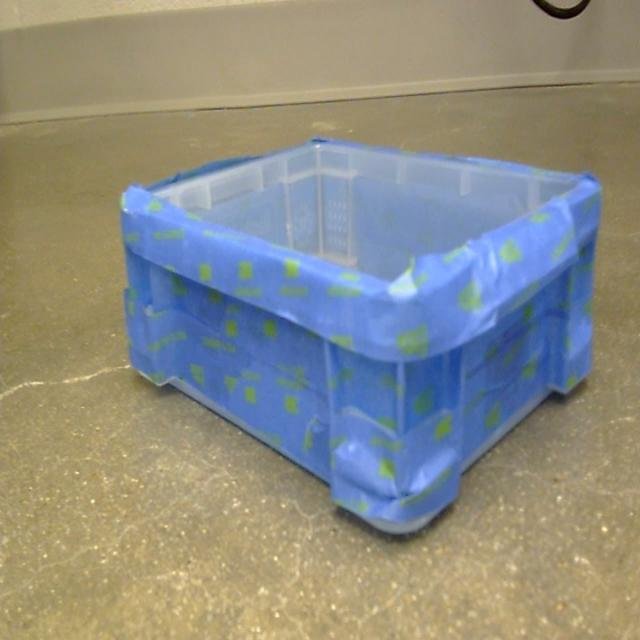bucket: (118, 139, 602, 540)
